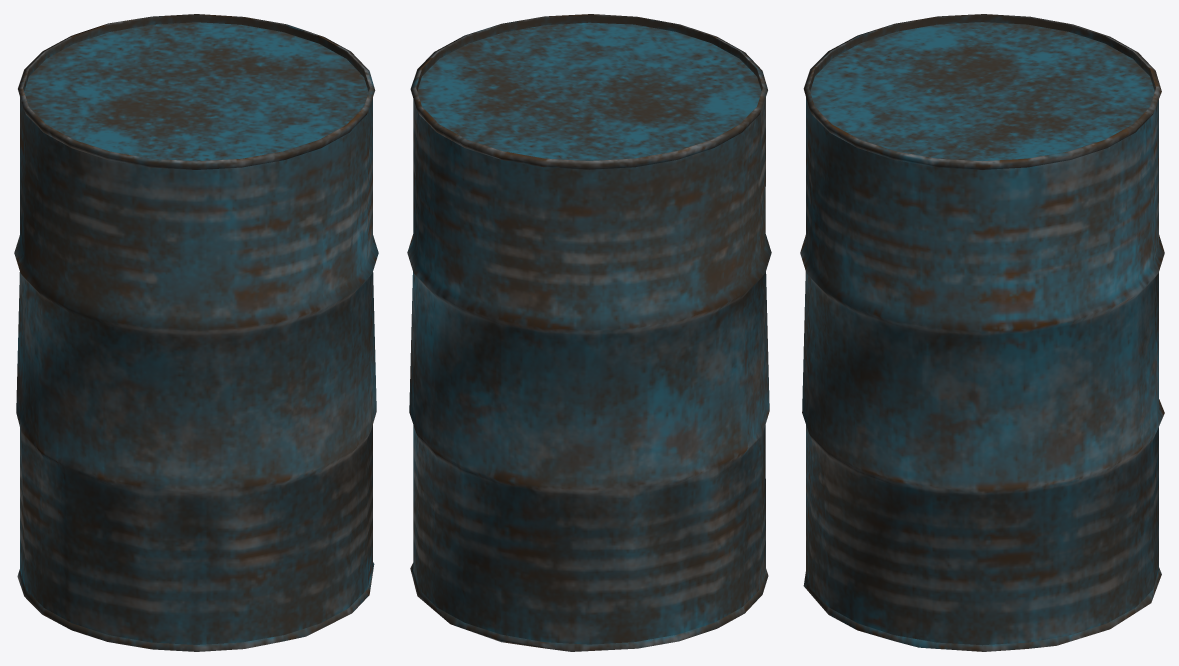
Rendered from baril1aa.gltf.
3 views of the same model, side by side, from view 1: azimuth 30°, elevation 25°; view 2: azimuth 150°, elevation 25°; view 3: azimuth 270°, elevation 25° (orthographic).
Parts seen in each view (by area): view 1: baril1; view 2: baril1; view 3: baril1.
Boxes of the visible parts, x1=… form: baril1: x1=14, y1=14, x2=378, y2=651; baril1: x1=407, y1=14, x2=771, y2=651; baril1: x1=800, y1=14, x2=1164, y2=651.
Bounding box in the file's own units: 0.62 × 0.9297 × 0.62.
Materials: 1 (1 with a texture image).
